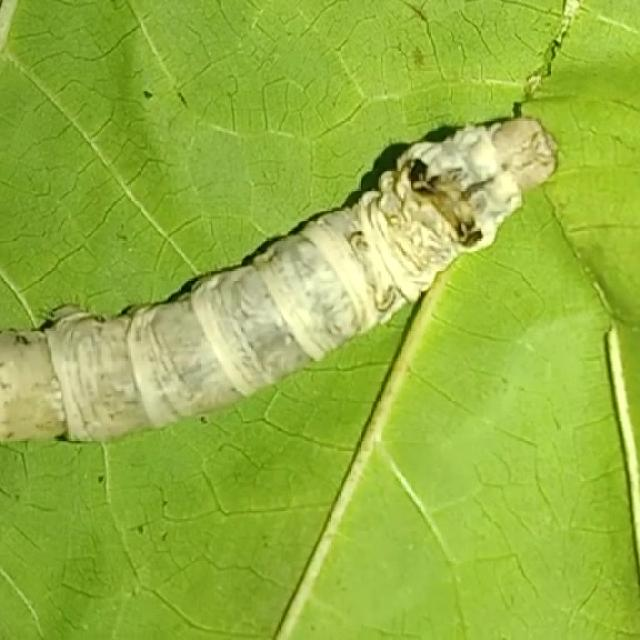Grasserie: (2, 88, 578, 466)
